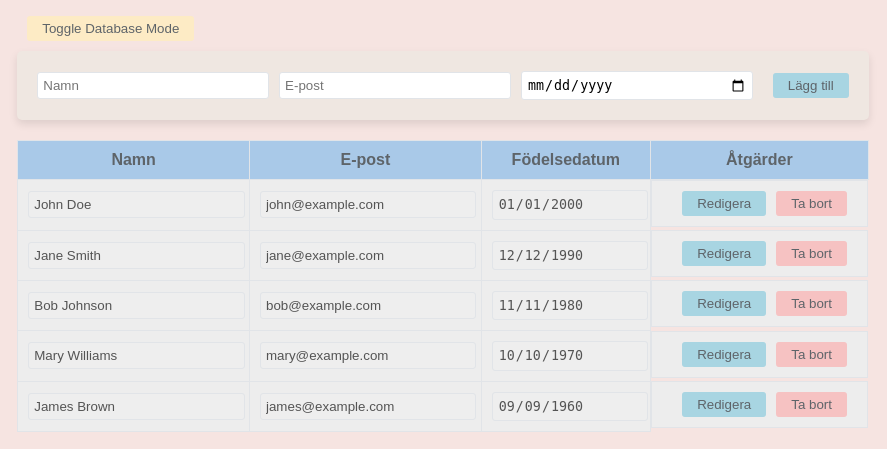
Test case: <App /> › renders the app and toggle placeholder mode
The width and height of the screenshot is (887, 449).
Click the button "Toggle Database Mode" at (111, 28), box [27,16,194,41]
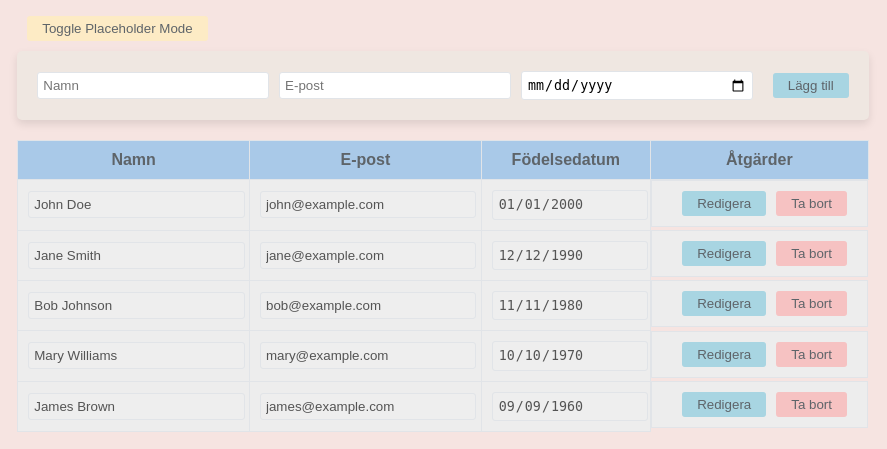
Check: the button "Toggle Placeholder Mode" is shown, box [27,16,208,41]
